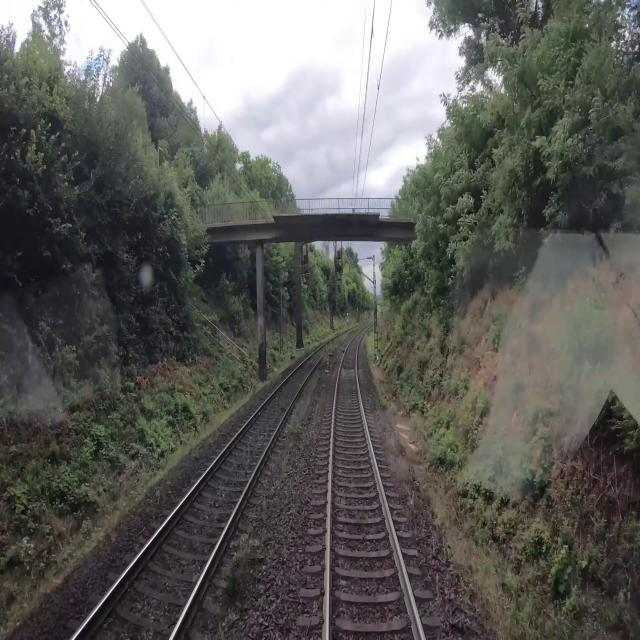Plant: (372, 378, 412, 488), (218, 532, 266, 614), (283, 413, 303, 446), (218, 612, 242, 639), (461, 588, 472, 612), (456, 613, 470, 631)
